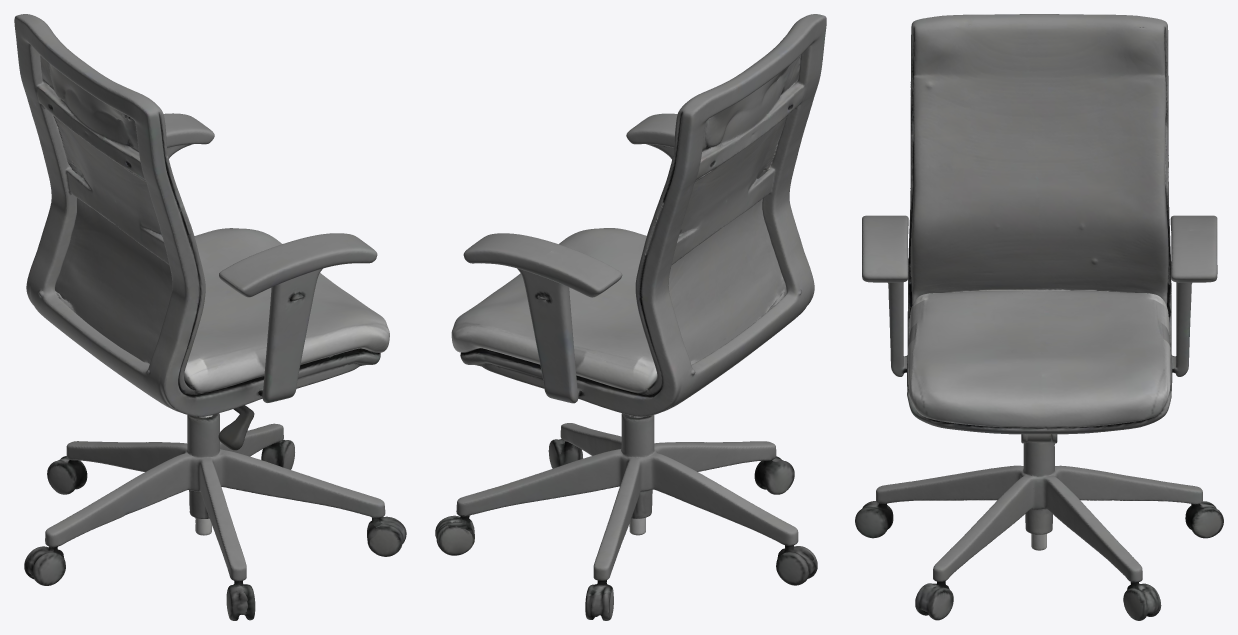
The model's file is modern_office_chair_padded_05.glb.
3 views of the same model, side by side, from view 1: azimuth 30°, elevation 25°; view 2: azimuth 150°, elevation 25°; view 3: azimuth 270°, elevation 25° (orthographic). The views are drawn at different scales.
Visible parts, largest first — view 1: tripo_node_e87b87c4-b669-4b2b-bb6d-75ce79fe70fa; view 2: tripo_node_e87b87c4-b669-4b2b-bb6d-75ce79fe70fa; view 3: tripo_node_e87b87c4-b669-4b2b-bb6d-75ce79fe70fa.
Boxes of the visible parts, <box> form: tripo_node_e87b87c4-b669-4b2b-bb6d-75ce79fe70fa: <box>14,14,406,620</box>; tripo_node_e87b87c4-b669-4b2b-bb6d-75ce79fe70fa: <box>435,14,826,620</box>; tripo_node_e87b87c4-b669-4b2b-bb6d-75ce79fe70fa: <box>855,14,1223,620</box>.
Size of the model in its own units: 0.6554 by 1 by 0.6885.
Materials: 1 (1 with a texture image).
